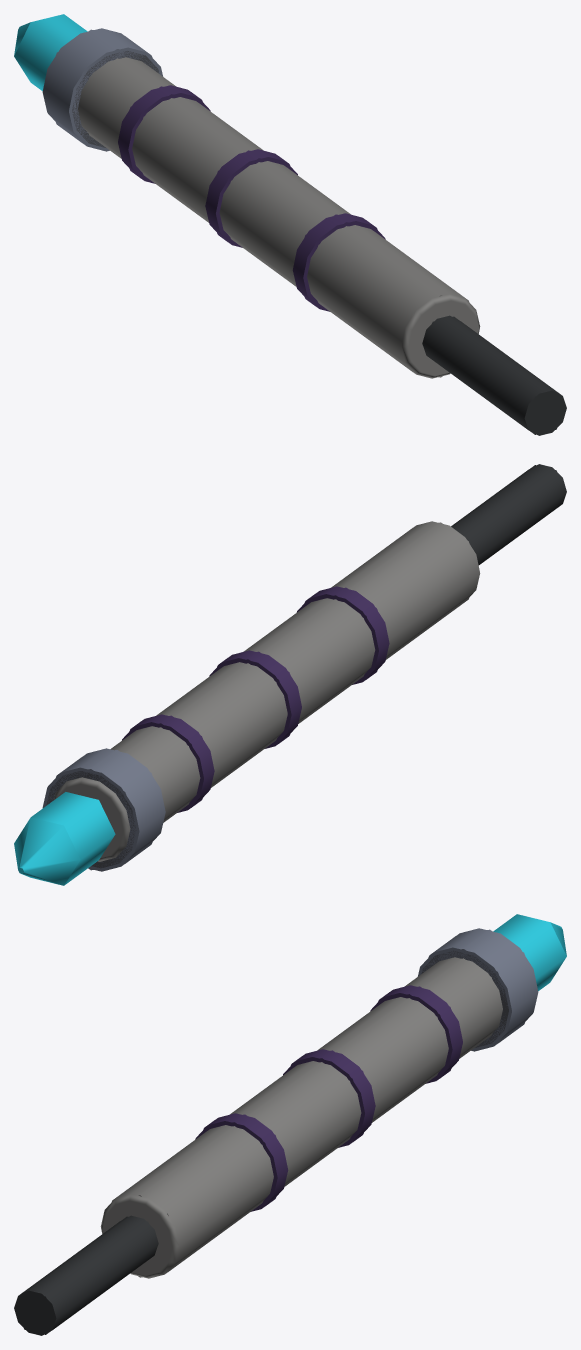
The model's file is st_orbital.glb.
3 renders of one model, top to bottom at view 1: azimuth 30°, elevation 25°; view 2: azimuth 150°, elevation 25°; view 3: azimuth 330°, elevation 25°, orthographic.
Visible parts, largest first — view 1: L0, L1; view 2: L0, L1; view 3: L0, L1.
Part boxes in pixels (x1,y1,x2,y2): L0: [14, 14, 566, 435]; L1: [55, 29, 566, 434]; L0: [14, 464, 566, 885]; L1: [43, 465, 557, 870]; L0: [14, 914, 566, 1335]; L1: [14, 929, 525, 1334].
Bounding box in the file's own units: 0.064 × 0.064 × 0.6.
